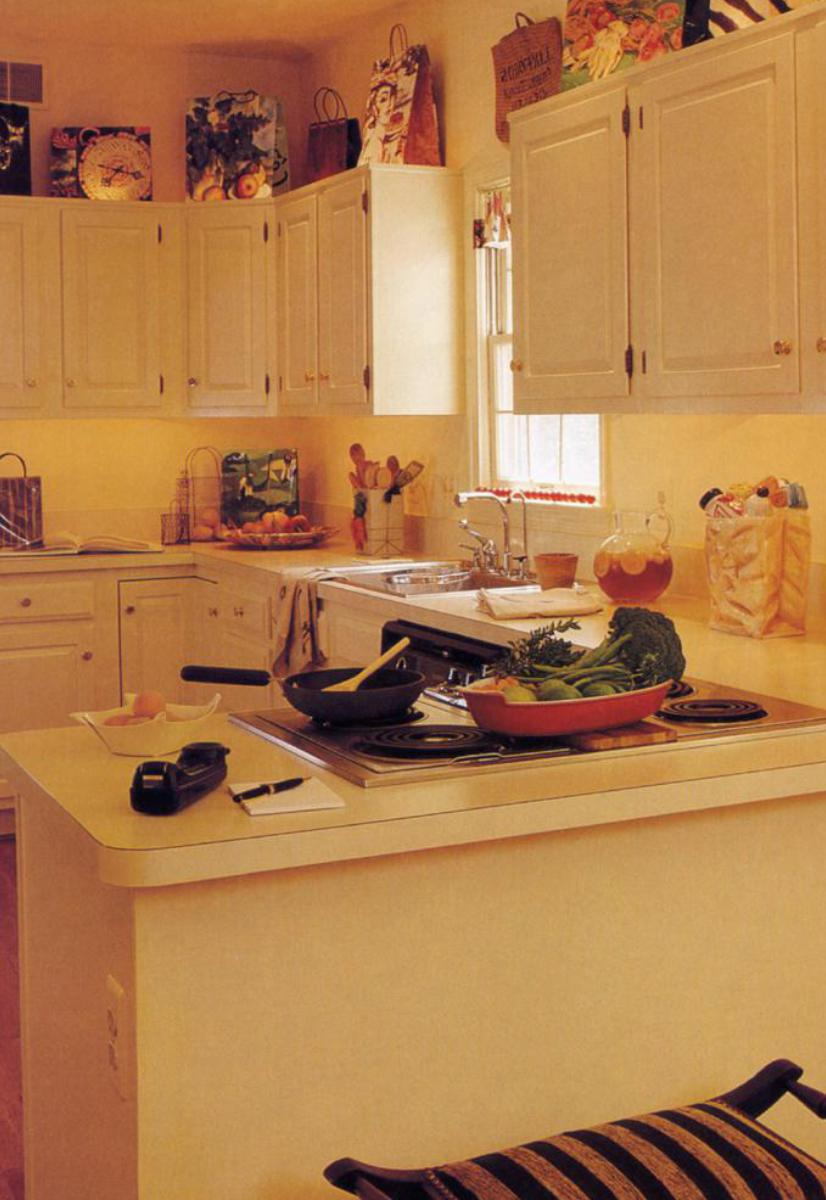Lavaplatos: (328, 480, 539, 613)
